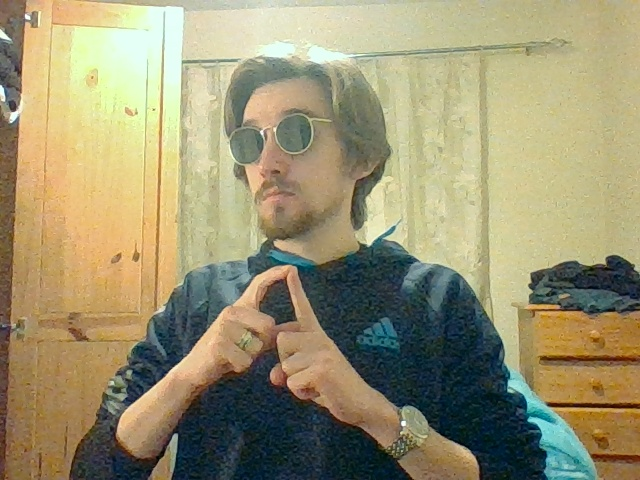daughter: (223, 264, 325, 378)
